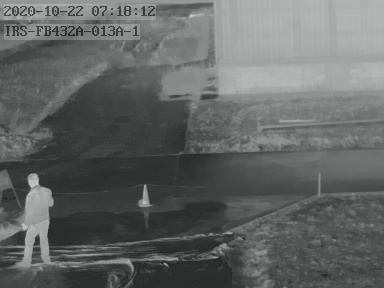person: (18, 173, 58, 266)
